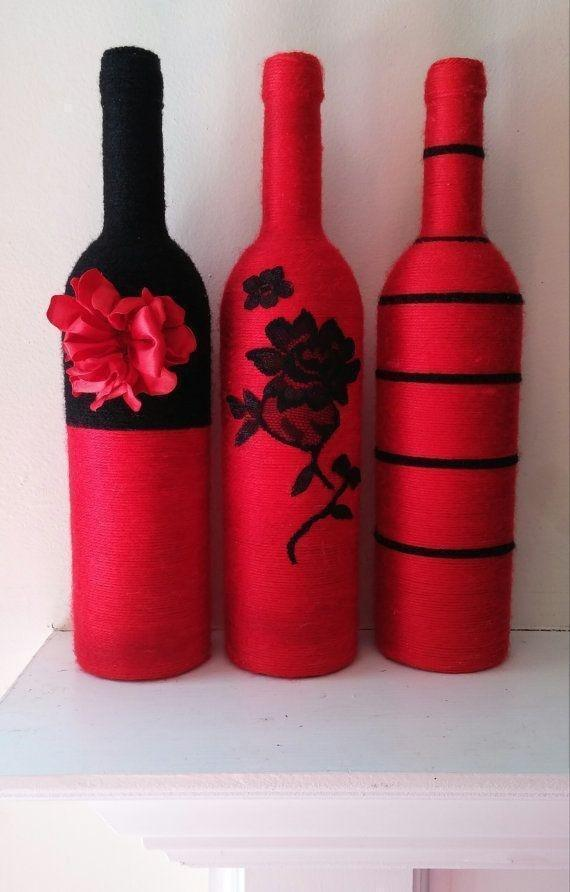bottle-glass: (52, 48, 216, 689), (368, 54, 527, 675), (213, 49, 367, 682)
